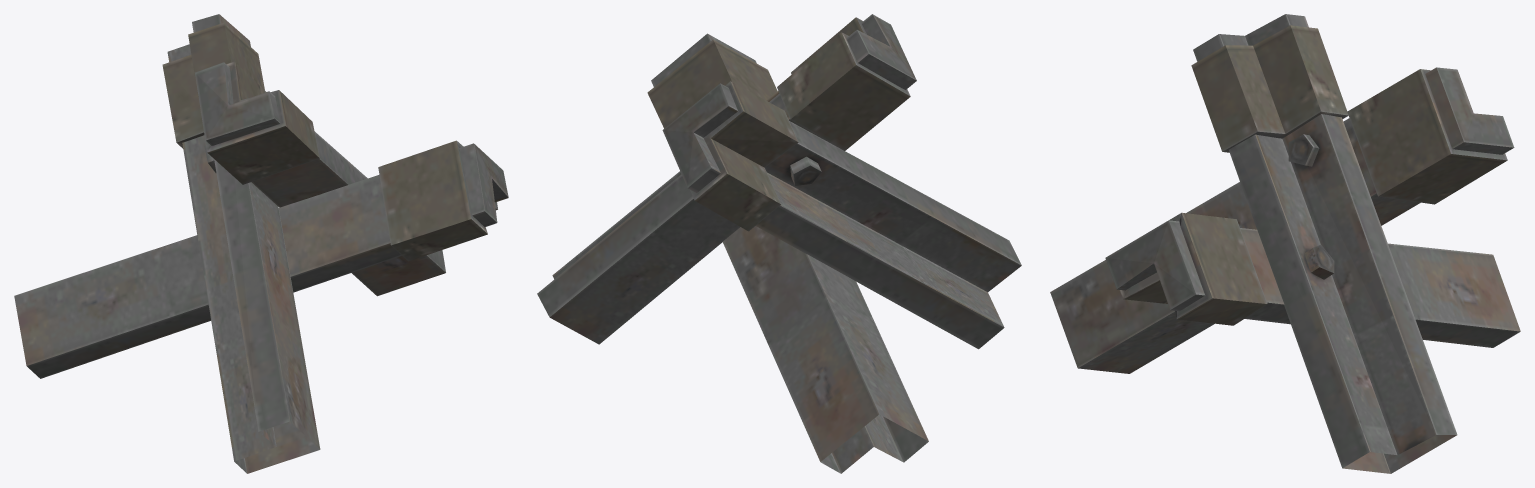
File: C1SMTKCRSA_H.obj
3 renders of one model, left to right at view 1: azimuth 30°, elevation 25°; view 2: azimuth 150°, elevation 25°; view 3: azimuth 270°, elevation 25°, orthographic. The views are drawn at different scales.
Parts seen in each view (by area): view 1: Node 0; view 2: Node 0; view 3: Node 0.
Part boxes in pixels (left/top/right/bottom): Node 0: left=14, top=14, right=508, bottom=473; Node 0: left=537, top=14, right=1021, bottom=473; Node 0: left=1050, top=14, right=1520, bottom=473.
Size of the model in its own units: 3.06 by 2.62 by 2.9.
1 material, 1 textured.
